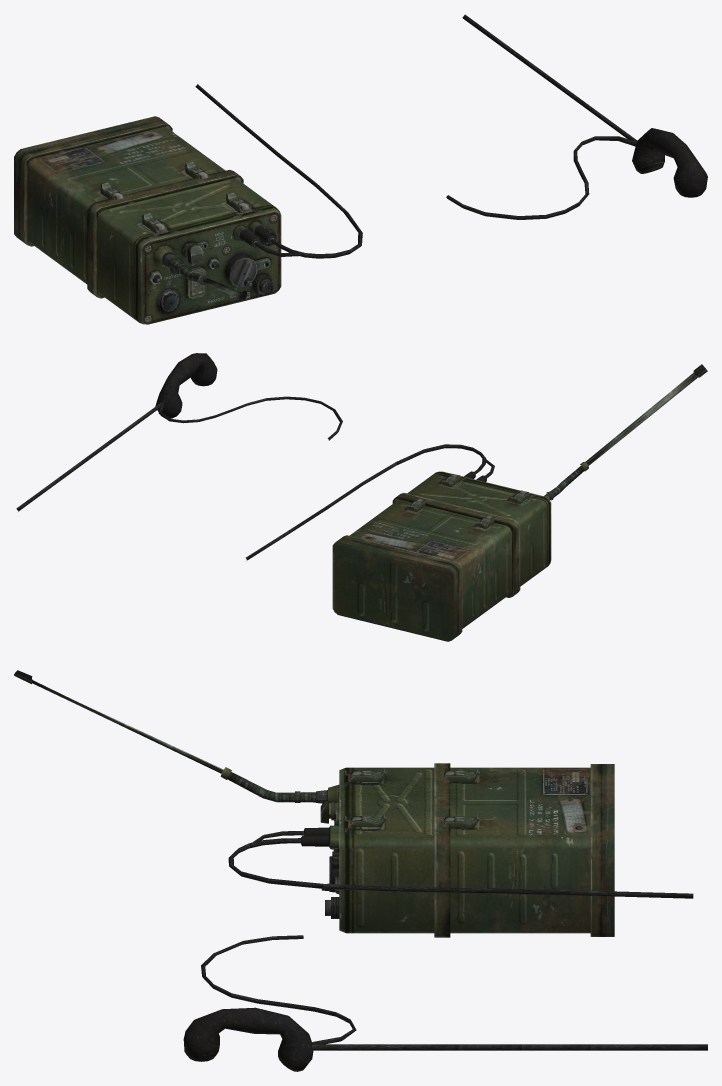
File: american_radio.glb
The picture shows the model from 3 angles, top to bottom: view 1: azimuth 30°, elevation 25°; view 2: azimuth 150°, elevation 25°; view 3: azimuth 270°, elevation 25°; orthographic projection. The views are drawn at different scales.
Size of the model in its own units: 41.77 by 11.18 by 41.07.
Materials: 1 (1 with a texture image).
